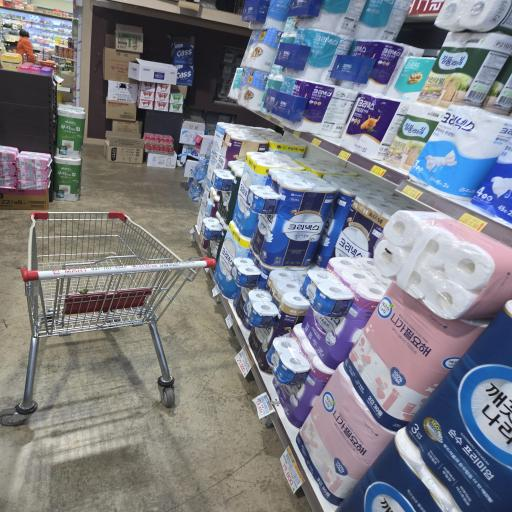empty_cart: (16, 210, 214, 420)
